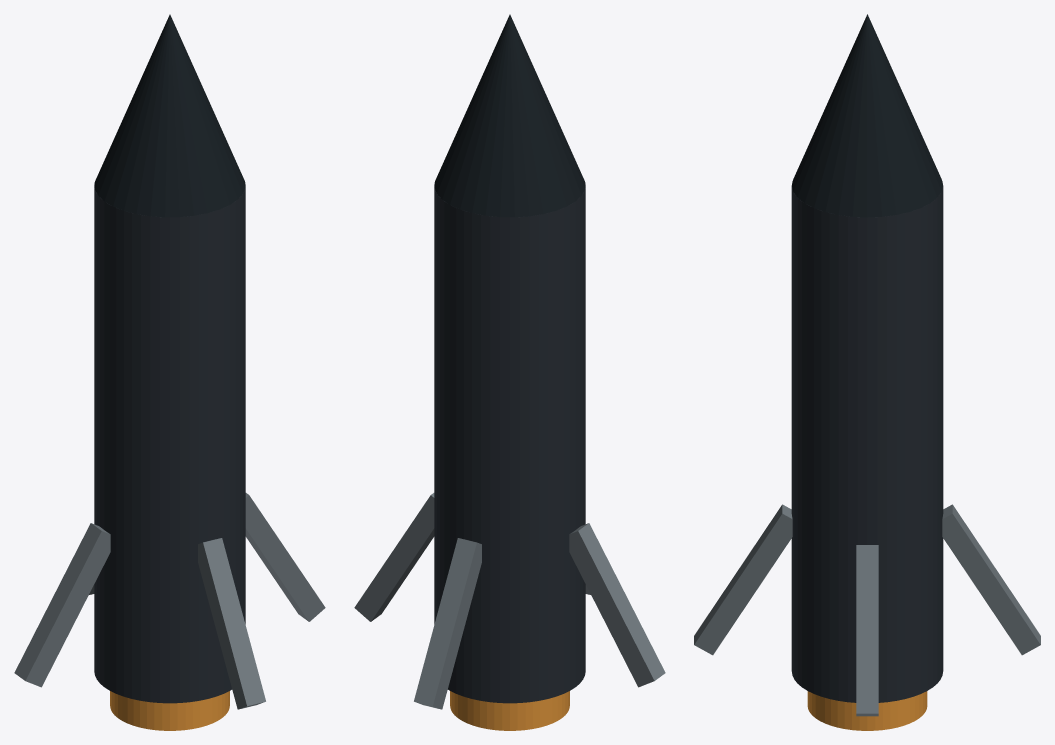
The model's file is micro_missile.glb.
3 renders of one model, left to right at view 1: azimuth 30°, elevation 25°; view 2: azimuth 150°, elevation 25°; view 3: azimuth 270°, elevation 25°, orthographic.
Parts seen in each view (by area): view 1: MissileBody, MissileNose, TailFin.002, TailFin.003, TailFin, Exhaust; view 2: MissileBody, MissileNose, TailFin.002, TailFin.001, TailFin, Exhaust; view 3: MissileBody, MissileNose, TailFin.001, TailFin.003, TailFin, Exhaust.
Part boxes in pixels (x1,y1,x2,y2): MissileBody: [94, 178, 245, 703]; MissileNose: [94, 14, 245, 217]; TailFin.002: [14, 523, 110, 687]; TailFin.003: [198, 538, 265, 709]; TailFin: [245, 493, 325, 621]; Exhaust: [110, 691, 229, 730]; MissileBody: [434, 178, 585, 703]; MissileNose: [434, 14, 585, 217]; TailFin.002: [569, 523, 665, 687]; TailFin.001: [414, 538, 481, 709]; TailFin: [354, 493, 434, 621]; Exhaust: [450, 691, 569, 730]; MissileBody: [791, 181, 943, 702]; MissileNose: [792, 14, 942, 217]; TailFin.001: [942, 504, 1040, 655]; TailFin.003: [694, 504, 792, 655]; TailFin: [856, 545, 878, 716]; Exhaust: [807, 691, 927, 730].
Bounding box in the file's own units: 0.5499 × 1.21 × 0.5499.
